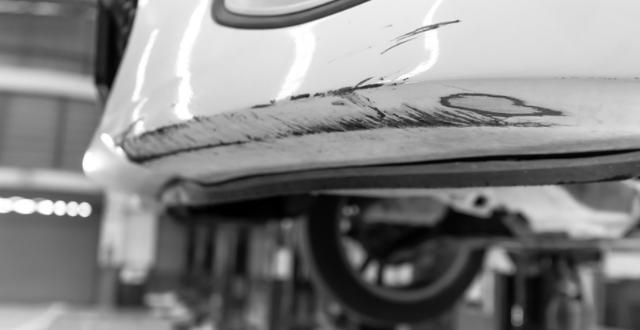Bumper: (65, 22, 640, 217)
